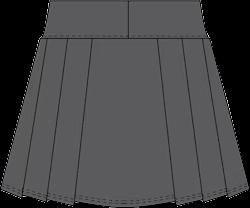Hemline: (0, 187, 249, 207)
Waistline: (39, 35, 209, 39), (49, 0, 201, 2)
